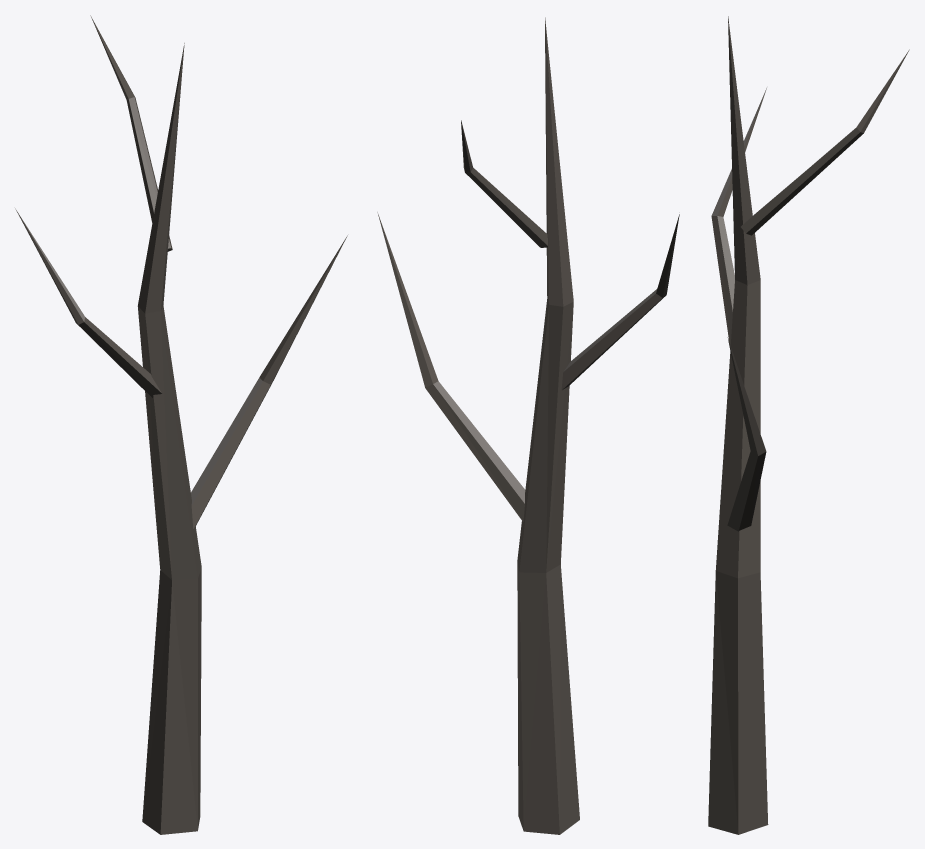
The model's file is SM_Tree_Dead_A.fbx.
3 views of the same model, side by side, from view 1: azimuth 30°, elevation 25°; view 2: azimuth 150°, elevation 25°; view 3: azimuth 270°, elevation 25° (orthographic). The views are drawn at different scales.
Parts seen in each view (by area): view 1: SM_Tree_Dead_A; view 2: SM_Tree_Dead_A; view 3: SM_Tree_Dead_A.
Part boxes in pixels (x1,y1,x2,y2): SM_Tree_Dead_A: [15, 15, 347, 834]; SM_Tree_Dead_A: [377, 17, 679, 834]; SM_Tree_Dead_A: [708, 16, 909, 834].
Bounding box in the file's own units: 1.85 × 4.4 × 0.9959.
